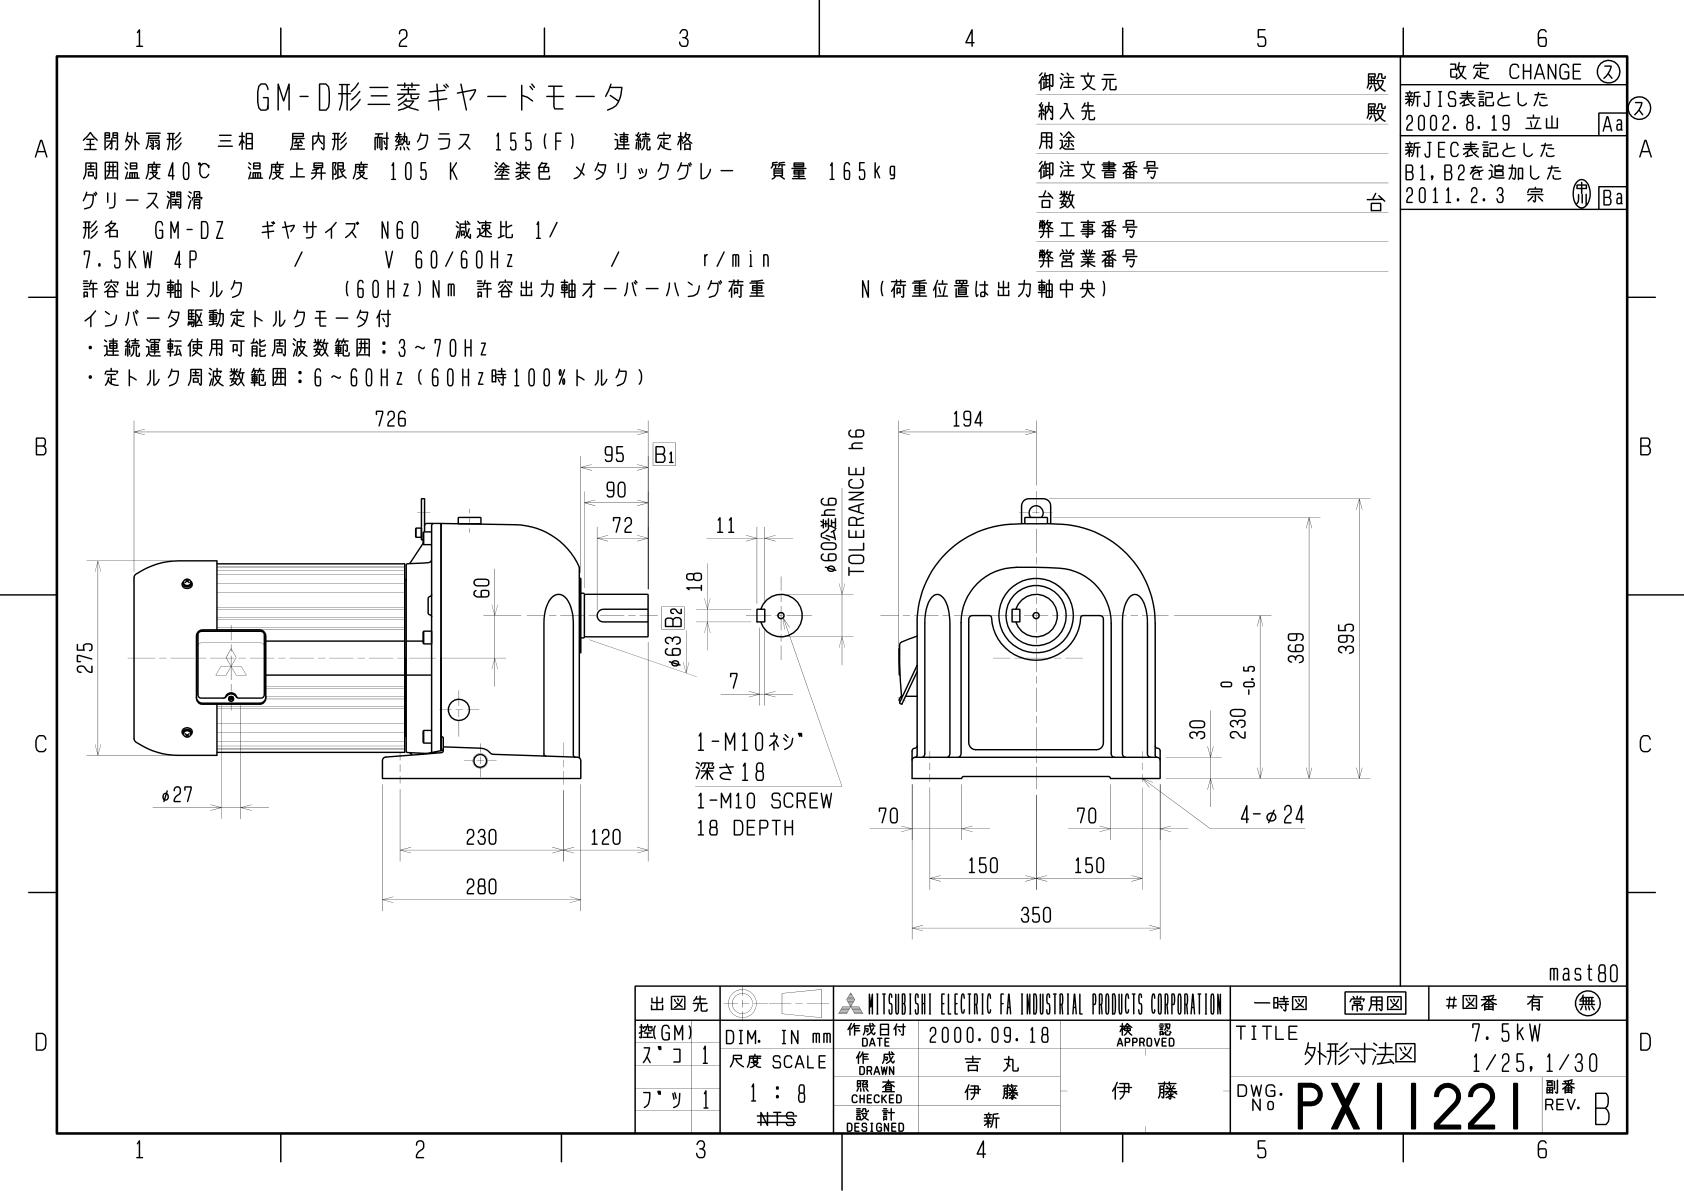GM_D_インバータ屋内_三相_脚: (61, 402, 1386, 962)
